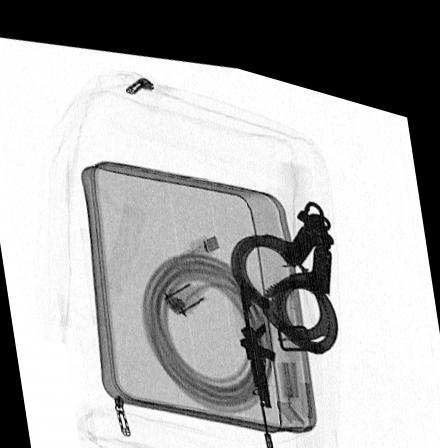Gun: (238, 265, 279, 448)
HandCuffs: (229, 181, 339, 336)
